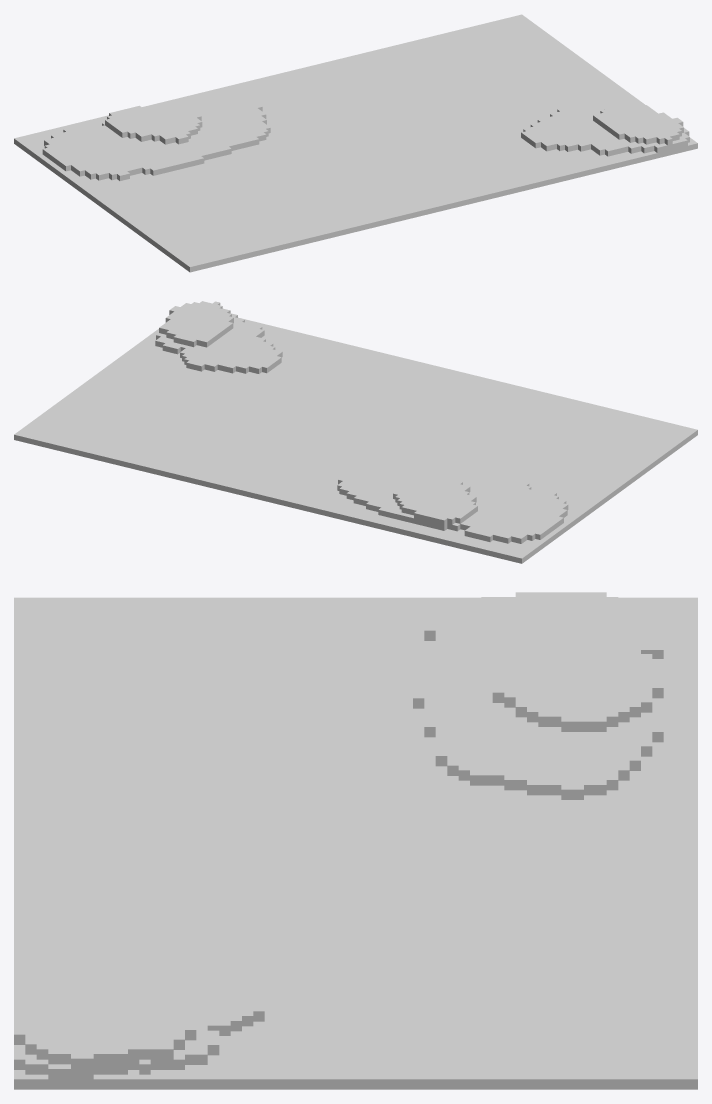
Rendered from Snow1.obj.
3 views of the same model, one above another, from view 1: azimuth 30°, elevation 25°; view 2: azimuth 150°, elevation 25°; view 3: azimuth 270°, elevation 25° (orthographic). The views are drawn at different scales.
Size of the model in its own units: 10 by 0.3 by 6.
1 material, 1 textured.
